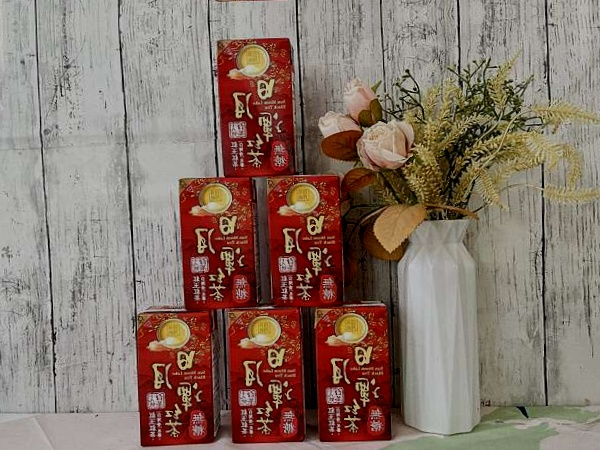鋁箔包: (254, 167, 353, 312), (128, 300, 223, 450), (170, 169, 264, 313), (307, 296, 398, 444), (222, 302, 312, 447), (213, 30, 300, 177), (208, 0, 295, 8)
